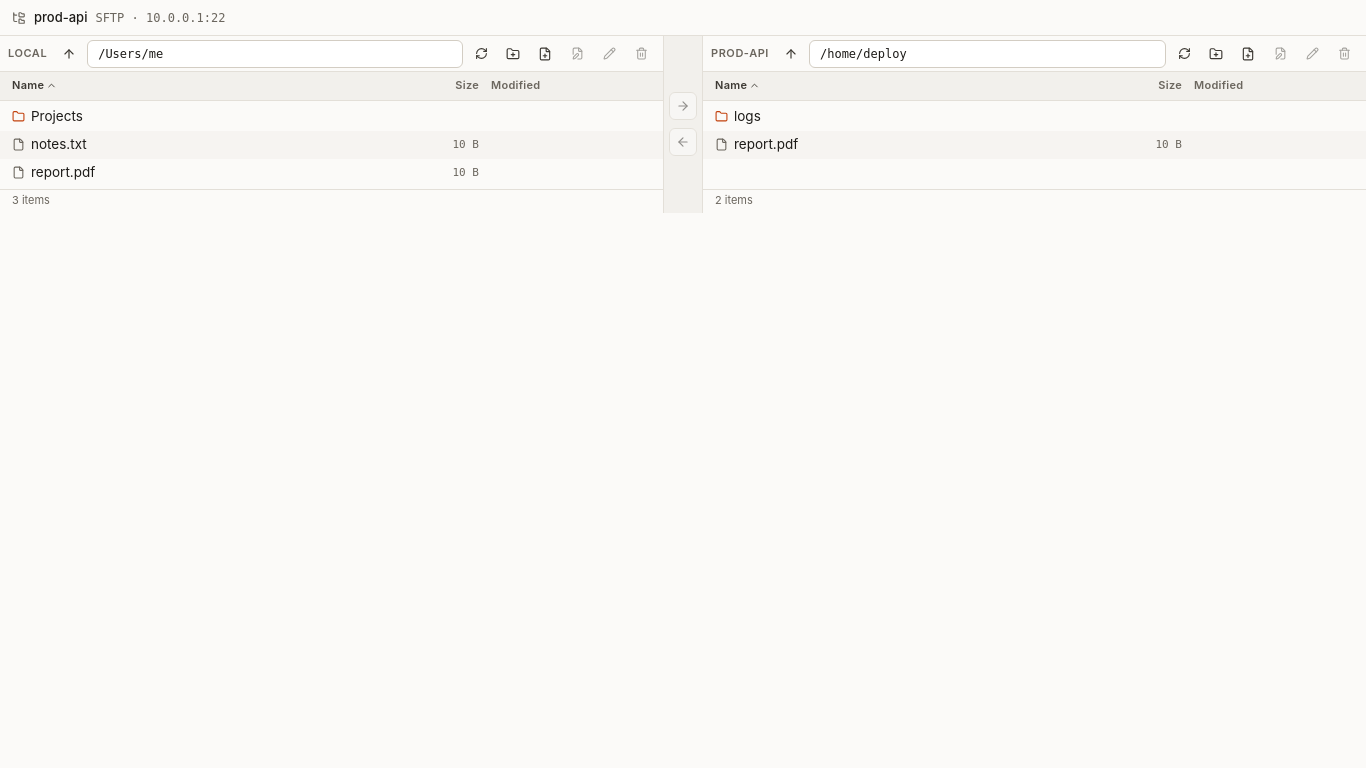
Test case: SftpView › keeps the rename dialog open with the reason when renaming fails
Expected: the option "logs" is shown, [715,108,761,124]
Step 1. Click the option "notes.txt 10 B" → point(59, 144), box [0,131,663,159]
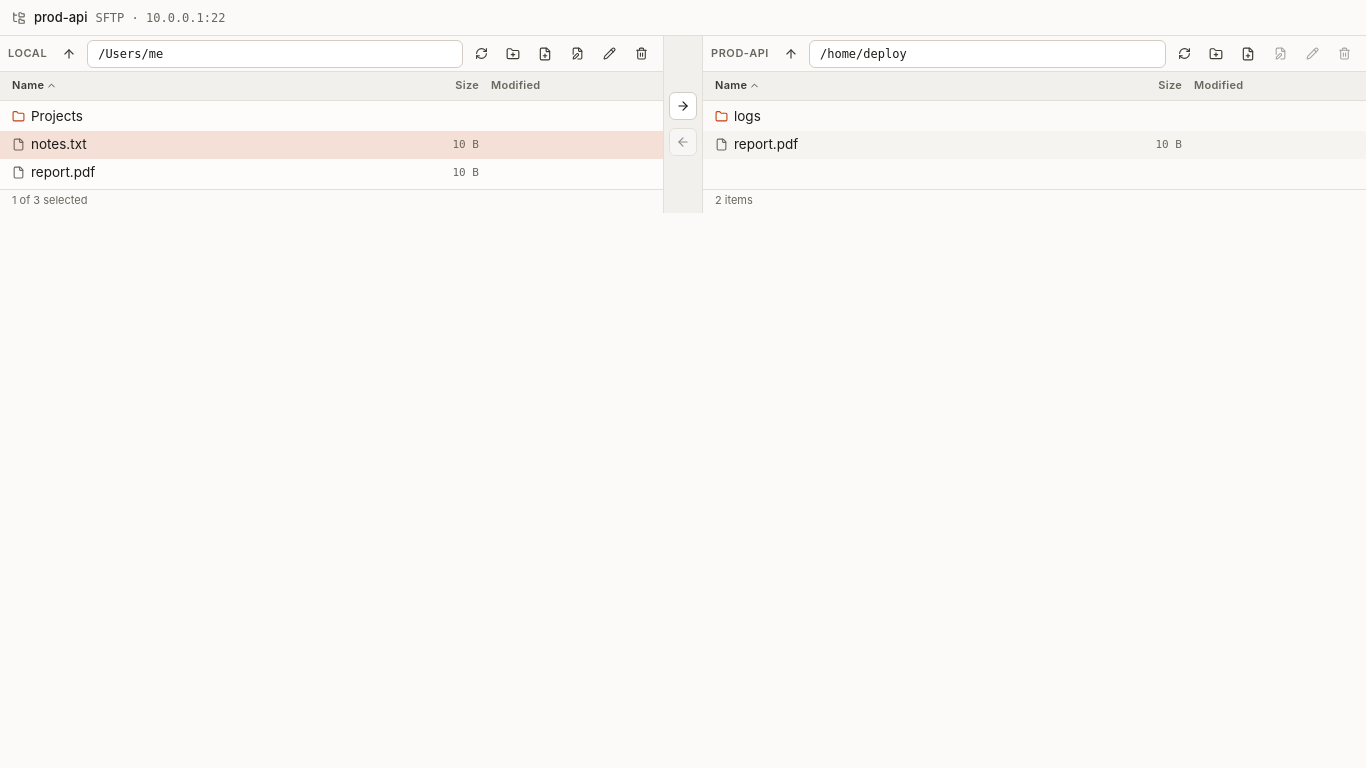
Step 2. Press F2 in the list "Projects notes.txt 10 B report.pdf 10 B", box [0,101,663,189]
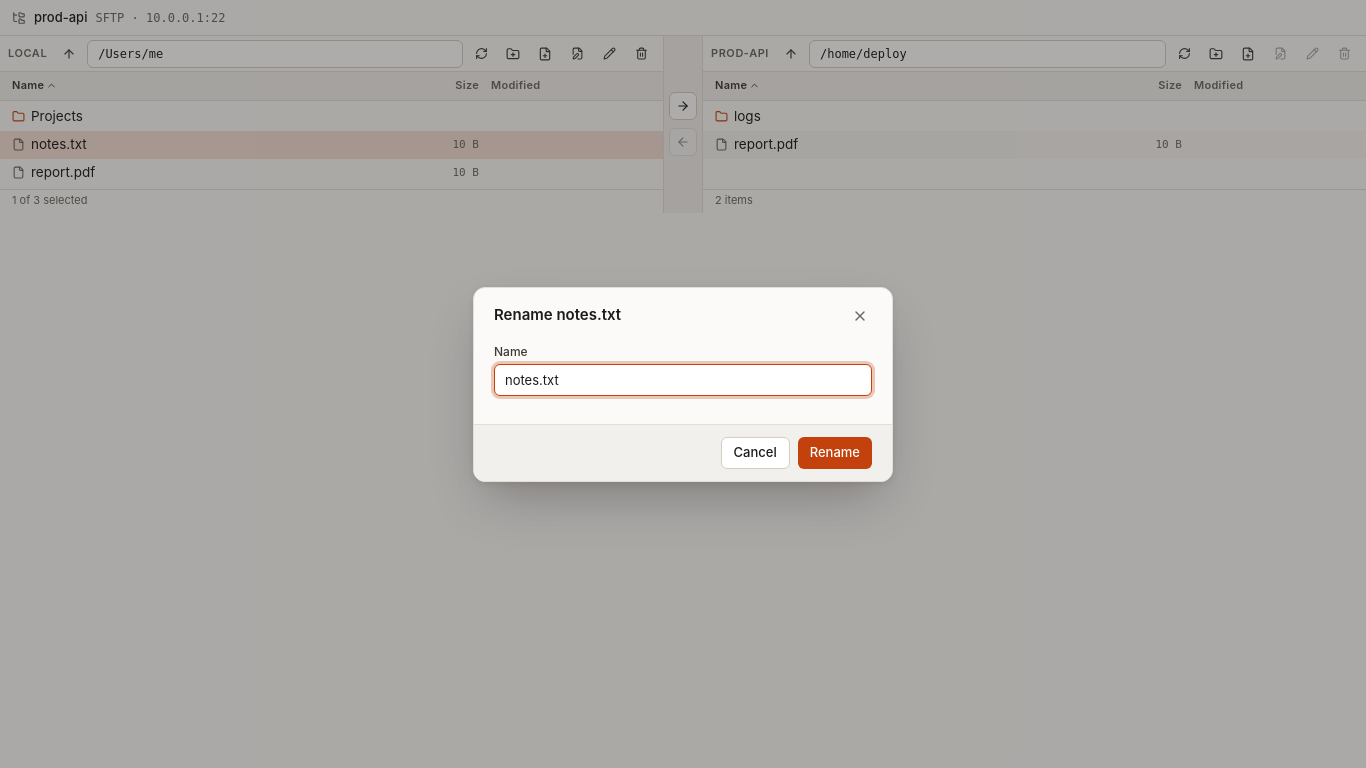
Step 3. Replace the text in the field labelled "Name" with "report.pdf" → point(683, 380), box [494,364,872,396]
Then press Enter
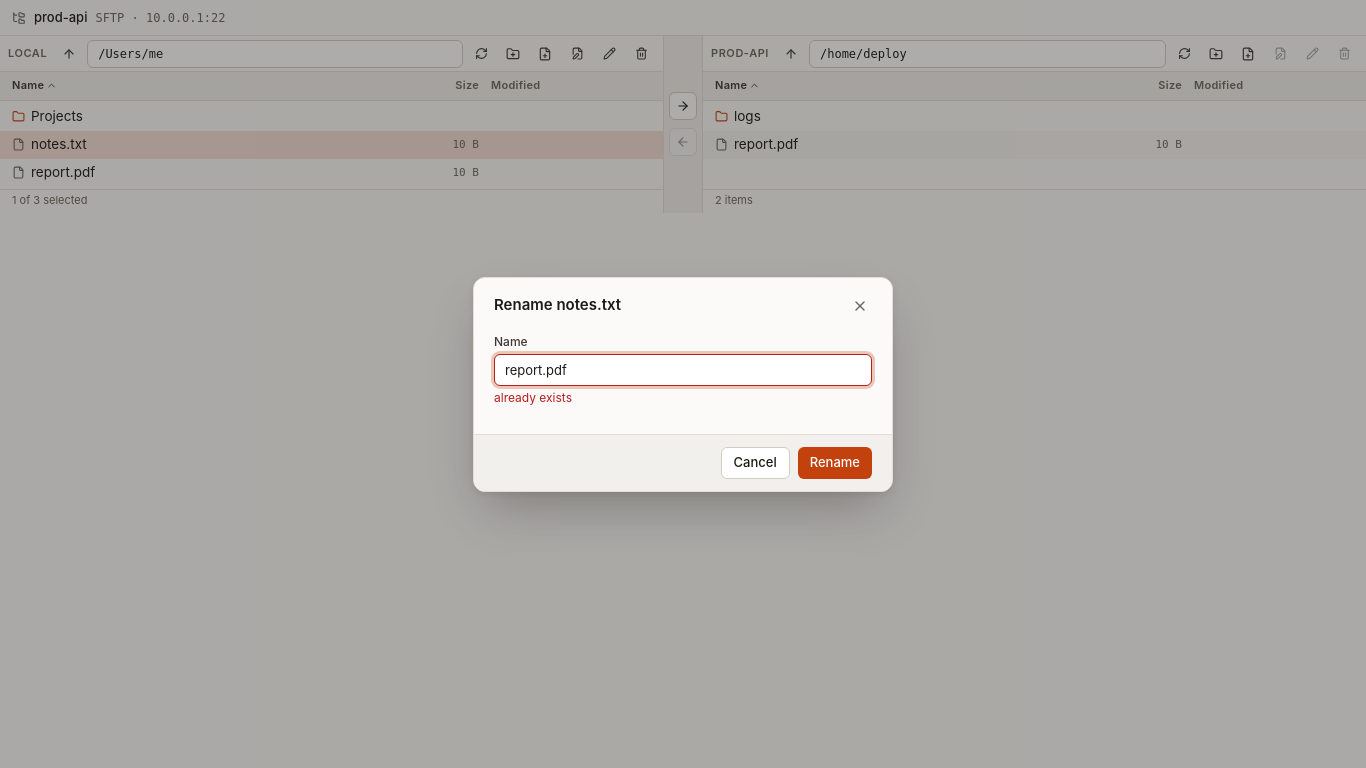
Expected: the text "already exists" is shown, [494,390,572,404]
